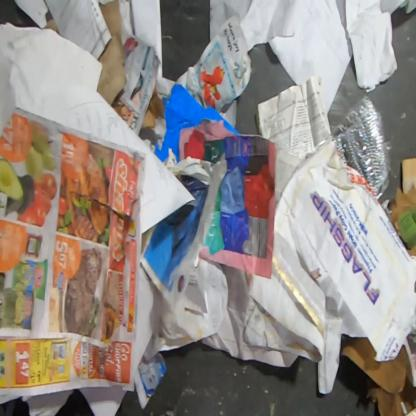cardboard: (339, 182, 415, 415), (154, 84, 240, 163), (141, 83, 164, 128), (401, 156, 415, 193)
rigid_plastic: (273, 96, 394, 218)
